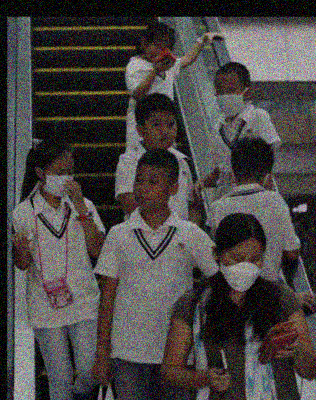with_mask: (220, 250, 266, 293), (214, 80, 246, 115), (43, 165, 76, 197)
without_mask: (132, 172, 166, 210), (144, 116, 179, 151), (143, 41, 173, 62)
